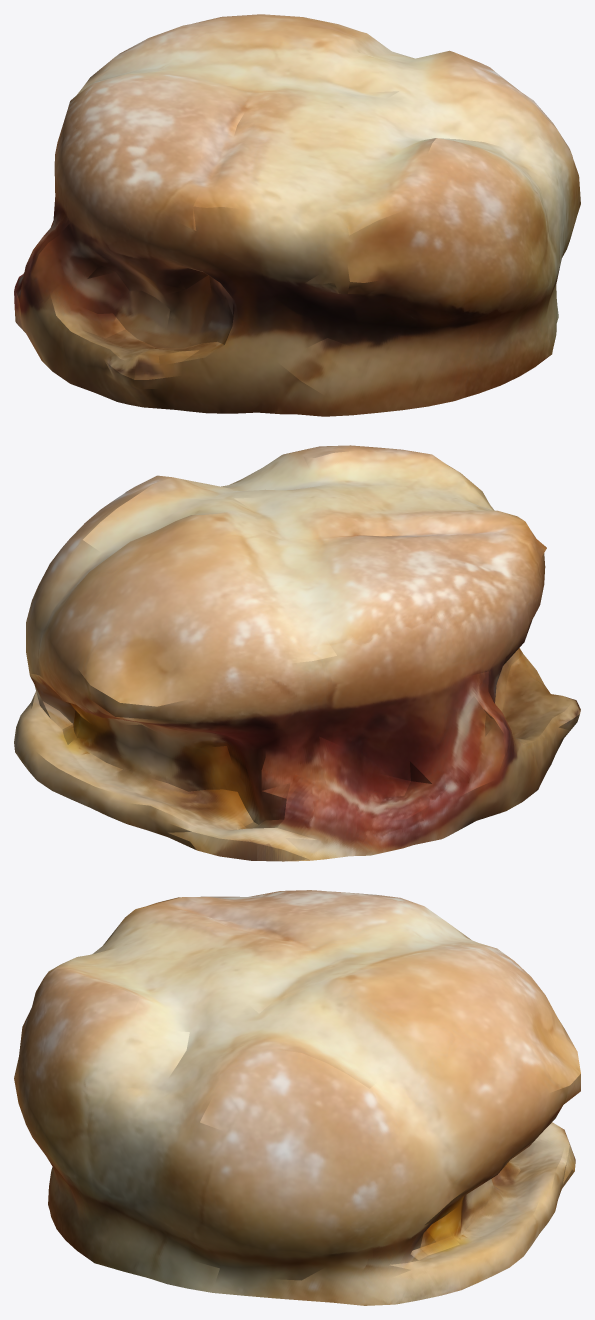
The model's file is hamburguesa.fbx.
3 views of the same model, one above another, from view 1: azimuth 30°, elevation 25°; view 2: azimuth 150°, elevation 25°; view 3: azimuth 270°, elevation 25° (orthographic). The views are drawn at different scales.
Visible parts, largest first — view 1: Group2772; view 2: Group2772; view 3: Group2772.
Part boxes in pixels (left/top/right/bottom): Group2772: left=14, top=14, right=580, bottom=416; Group2772: left=14, top=445, right=580, bottom=861; Group2772: left=14, top=890, right=580, bottom=1305.
Bounding box in the file's own units: 22.61 × 10.41 × 22.52.
